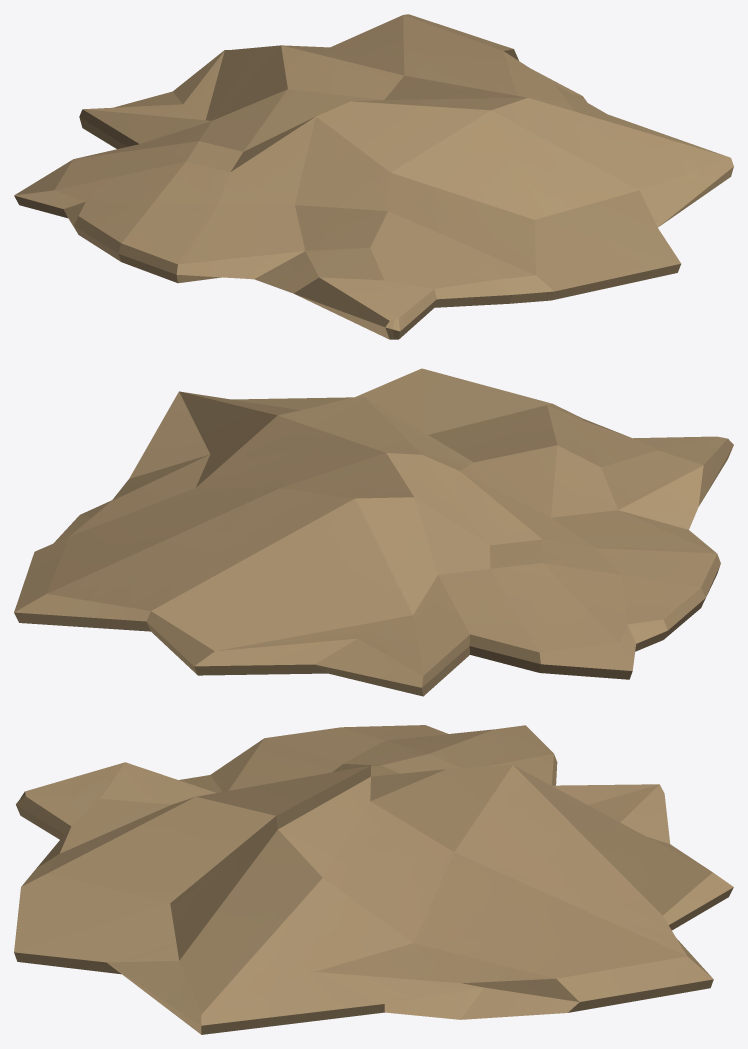
The model's file is dirt_cluster_brown_2.glb.
3 renders of one model, top to bottom at view 1: azimuth 30°, elevation 25°; view 2: azimuth 150°, elevation 25°; view 3: azimuth 270°, elevation 25°, orthographic. The views are drawn at different scales.
Parts seen in each view (by area): view 1: dirt_cluster_brown_2; view 2: dirt_cluster_brown_2; view 3: dirt_cluster_brown_2.
Part boxes in pixels (x1,y1,x2,y2): dirt_cluster_brown_2: (14,14,733,339); dirt_cluster_brown_2: (14,368,733,696); dirt_cluster_brown_2: (14,725,733,1034).
Bounding box in the file's own units: 0.756 × 0.1274 × 0.7654.
1 material, 1 textured.
